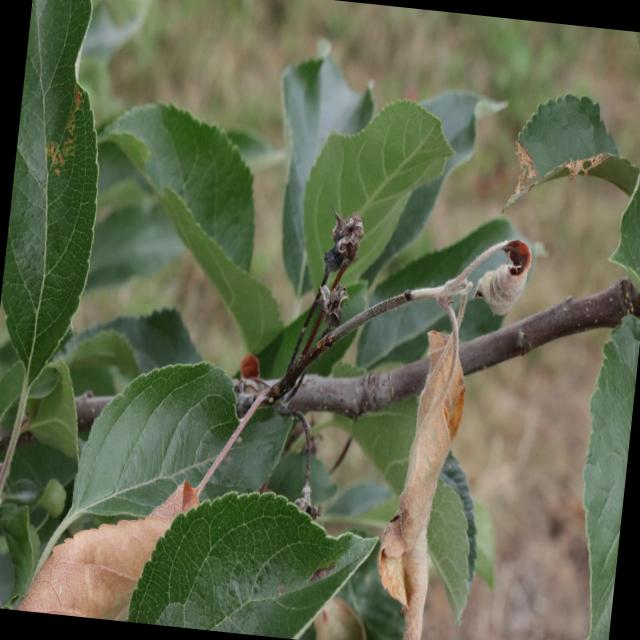-FireBlight-: (371, 234, 539, 640)
